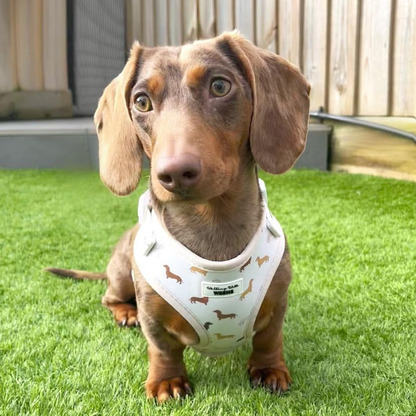dachshund: (64, 27, 334, 399)
